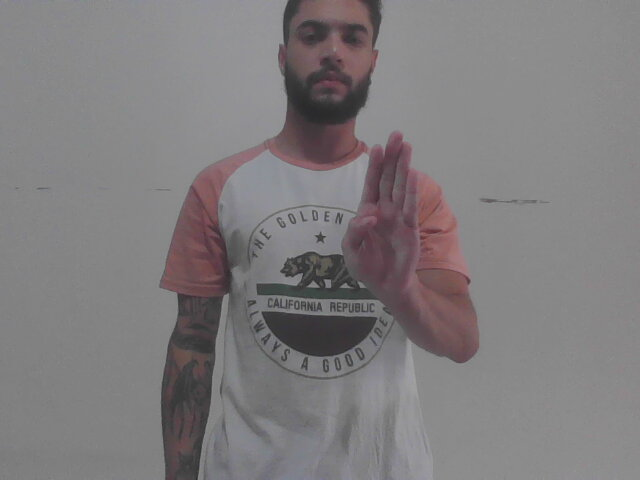b: (337, 128, 426, 298)
